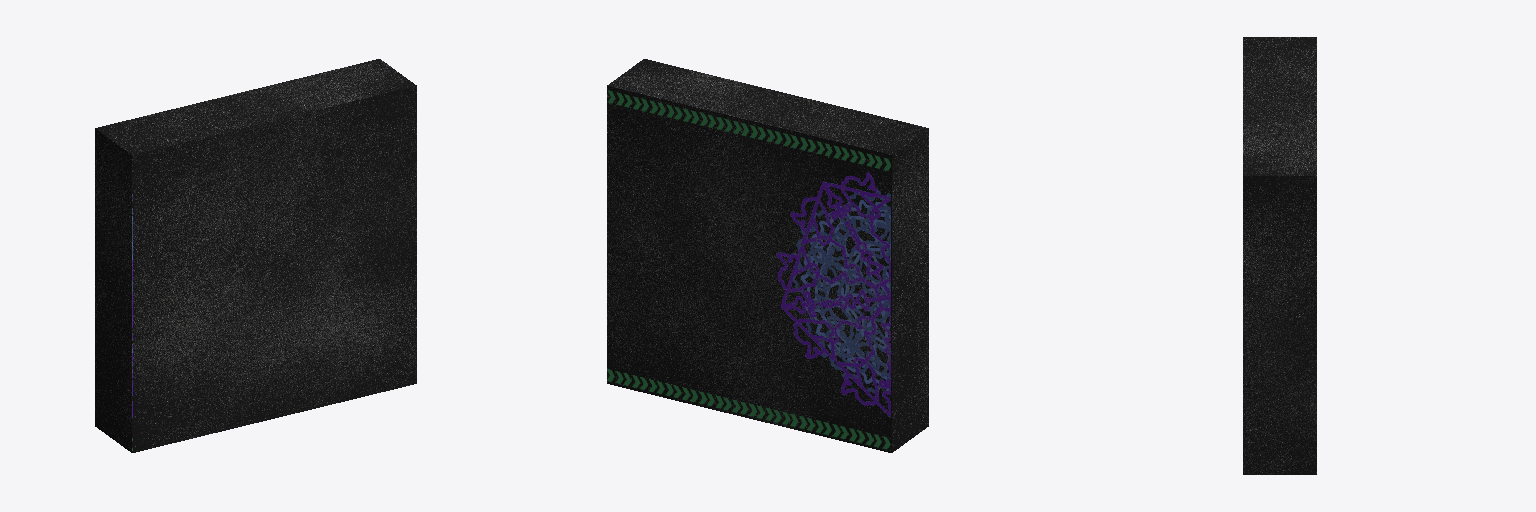
3 views of the same model, side by side, from view 1: azimuth 30°, elevation 25°; view 2: azimuth 150°, elevation 25°; view 3: azimuth 270°, elevation 25° (orthographic).
Visible parts, largest first — view 1: Untitled; view 2: Untitled; view 3: Untitled.
Part boxes in pixels (x1,y1,x2,y2): Untitled: (95, 59, 416, 452); Untitled: (607, 59, 928, 452); Untitled: (1243, 37, 1316, 474).
Size of the model in its own units: 24.5 by 24.5 by 5.51.
Materials: 1 (1 with a texture image).